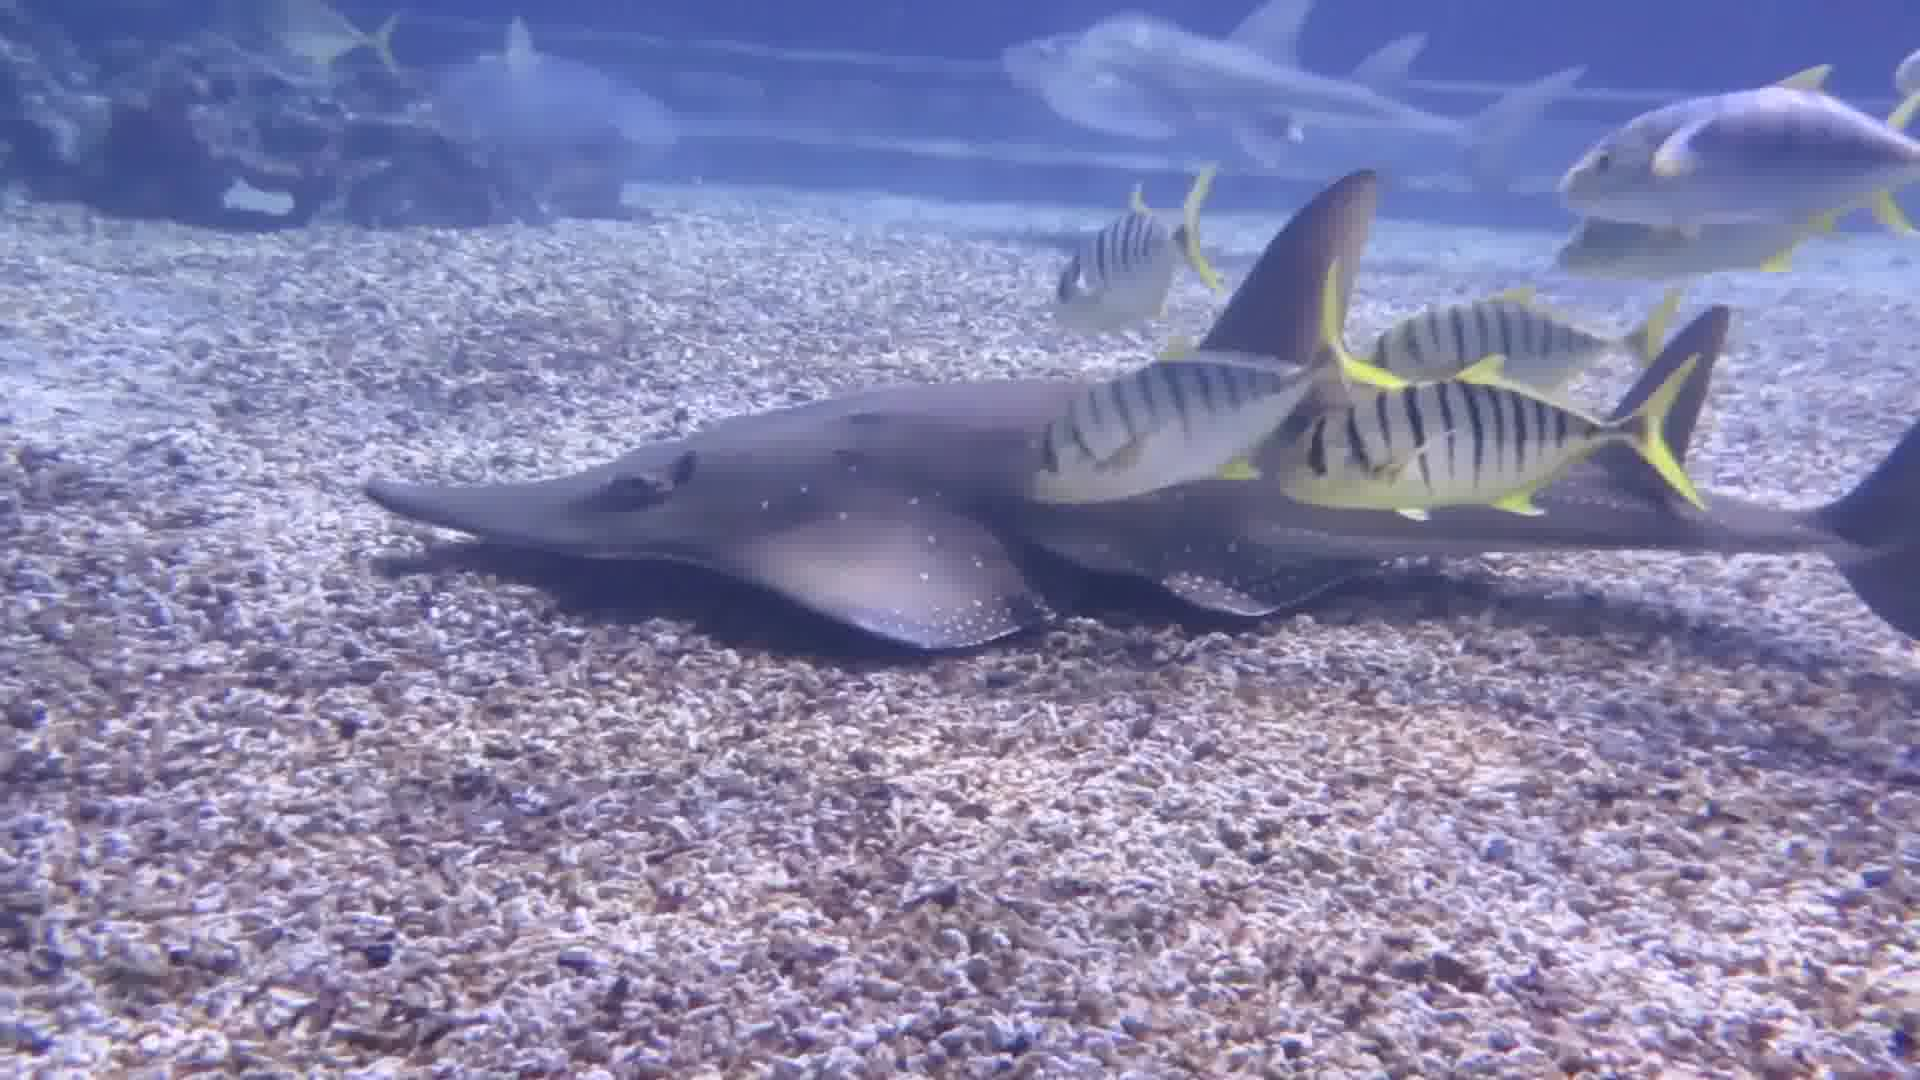Rhychobatus djiddensis: (262, 214, 1912, 692)
